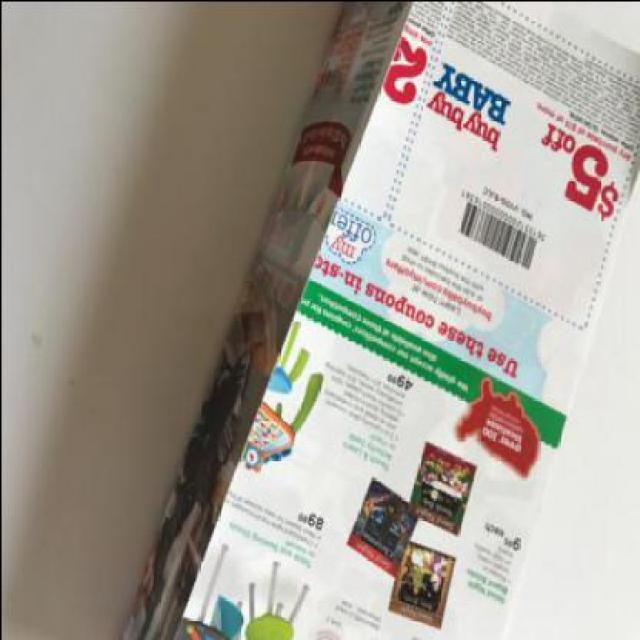PAPER: (120, 1, 638, 638)
